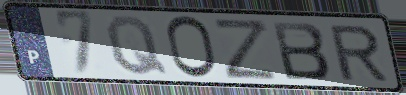7: (52, 8, 96, 80)
B: (269, 19, 333, 82)
O: (164, 14, 220, 81)
Q: (103, 14, 171, 77)
R: (326, 23, 391, 82)
Z: (211, 16, 280, 82)
